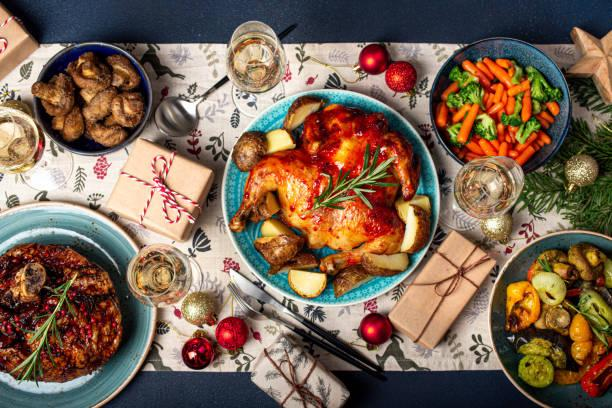Braised Crucian Carp: (221, 89, 431, 306), (2, 200, 156, 406), (488, 230, 610, 408), (428, 37, 569, 175), (32, 40, 150, 155)
